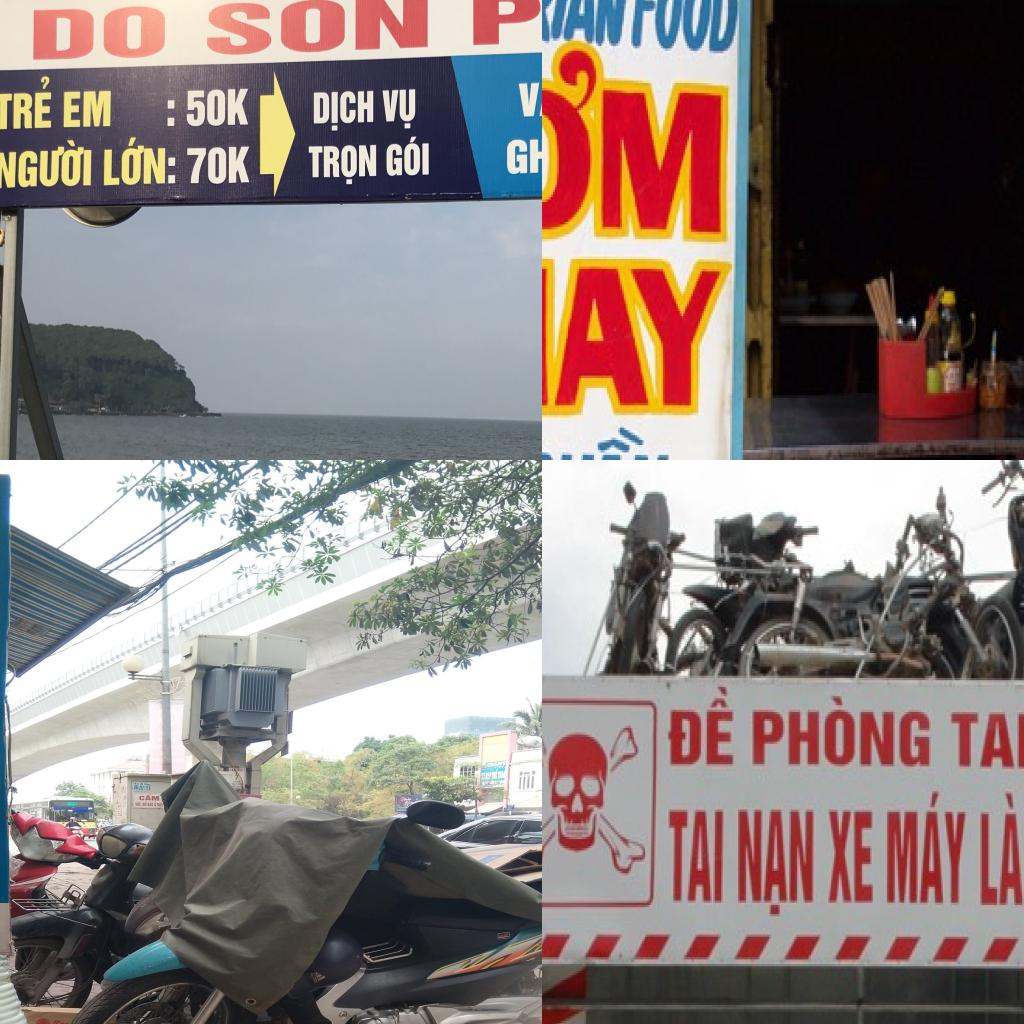text: (542, 31, 740, 251), (542, 246, 739, 425), (751, 692, 932, 768), (204, 0, 431, 58), (881, 789, 971, 907), (735, 805, 822, 921), (31, 4, 167, 62), (622, 0, 745, 60), (975, 786, 1024, 909), (664, 810, 727, 905), (667, 682, 735, 769), (825, 803, 876, 905), (542, 422, 678, 460), (0, 137, 92, 193), (950, 709, 1024, 773), (102, 134, 167, 189), (306, 142, 378, 188), (0, 75, 54, 133), (311, 88, 376, 135), (184, 142, 250, 188), (186, 86, 250, 128), (60, 88, 115, 131), (384, 134, 431, 180), (503, 122, 542, 176), (381, 86, 418, 130), (512, 71, 542, 122), (164, 95, 177, 129), (167, 154, 177, 188), (140, 794, 162, 801), (51, 1019, 71, 1024), (147, 801, 155, 807), (156, 801, 164, 807), (134, 802, 142, 807), (142, 801, 148, 807), (154, 801, 158, 807)
